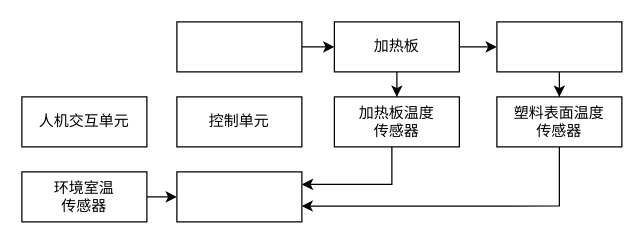
This 644x244 diagram has some shape labels left out. The centre of each missing label's shape, as x and y in pixels:
"加热驱动器" goes at point (239, 46).
"塑料坯胎" goes at point (559, 46).
"温度采集单元" goes at point (239, 196).
